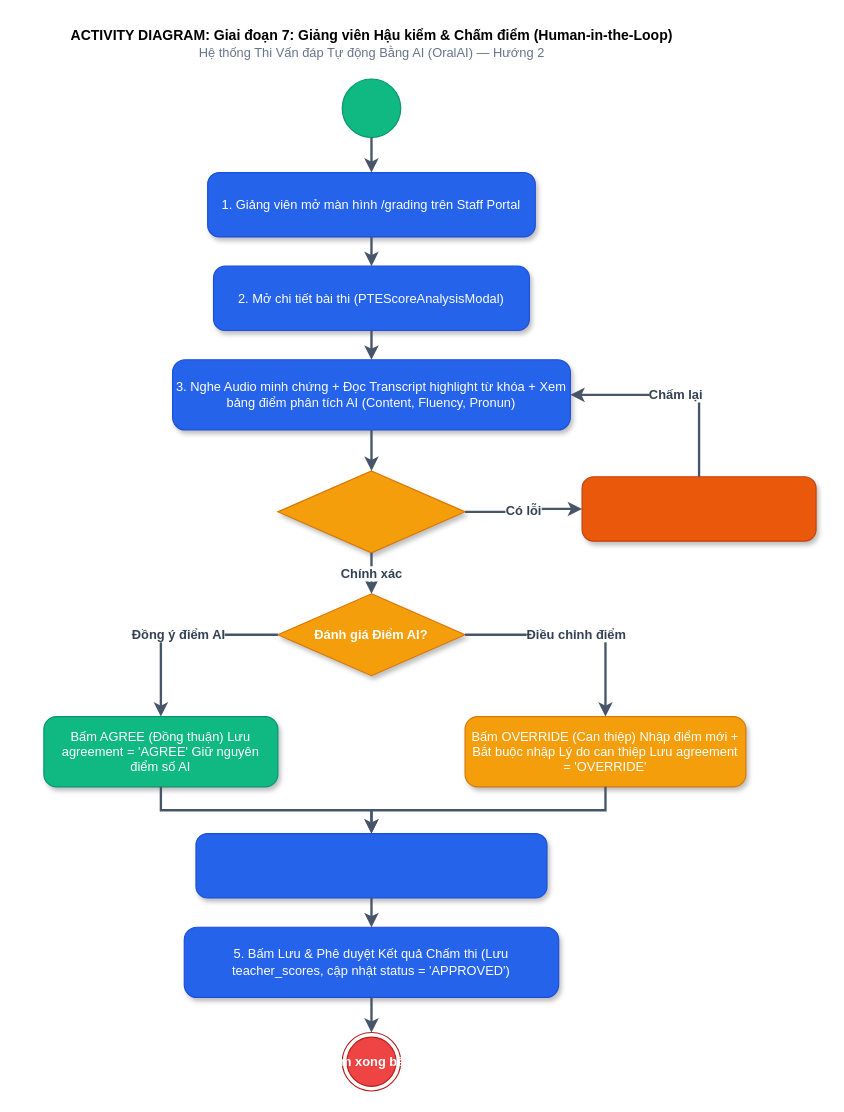
Image size: 844x1112. Some labels were removed from this diagram. Here are the shapes that lost their labels. From the top down, the centre of each, then its label:
point 371,107: Bắt đầu chấm
point 372,513: Transcript STT có lỗi từ vựng?
point 699,510: Sửa Transcript lỗi chính tả Bấm Regrade để AI tính lại
point 372,867: 4. Giảng viên nhập Nhận xét sư phạm chi tiết (Feedback)
